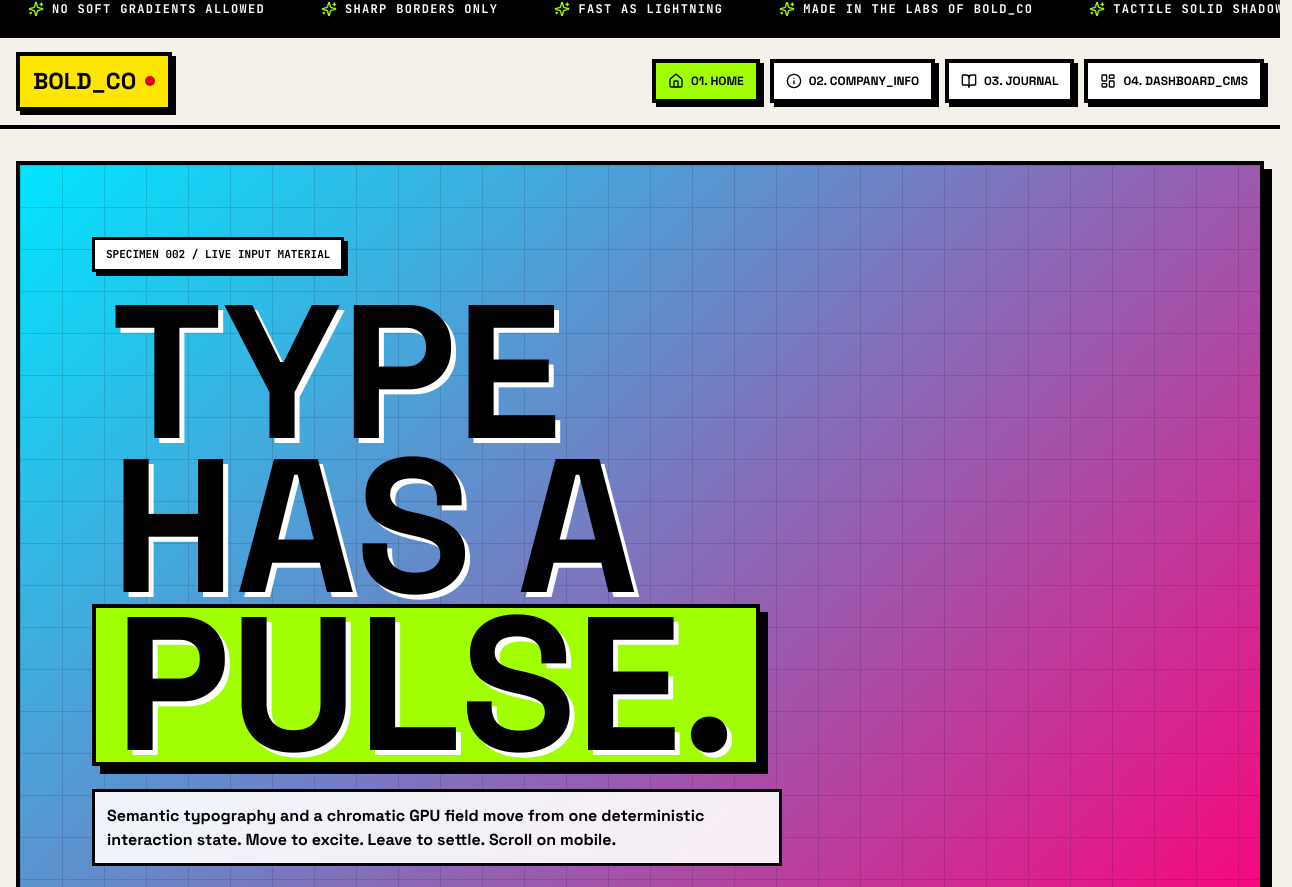
Test: BOLD_CO specimen › adds a review to the live feed
Click the button "02. COMPANY_INFO" at (852, 81), box [770,59,935,103]
(page scrolled)
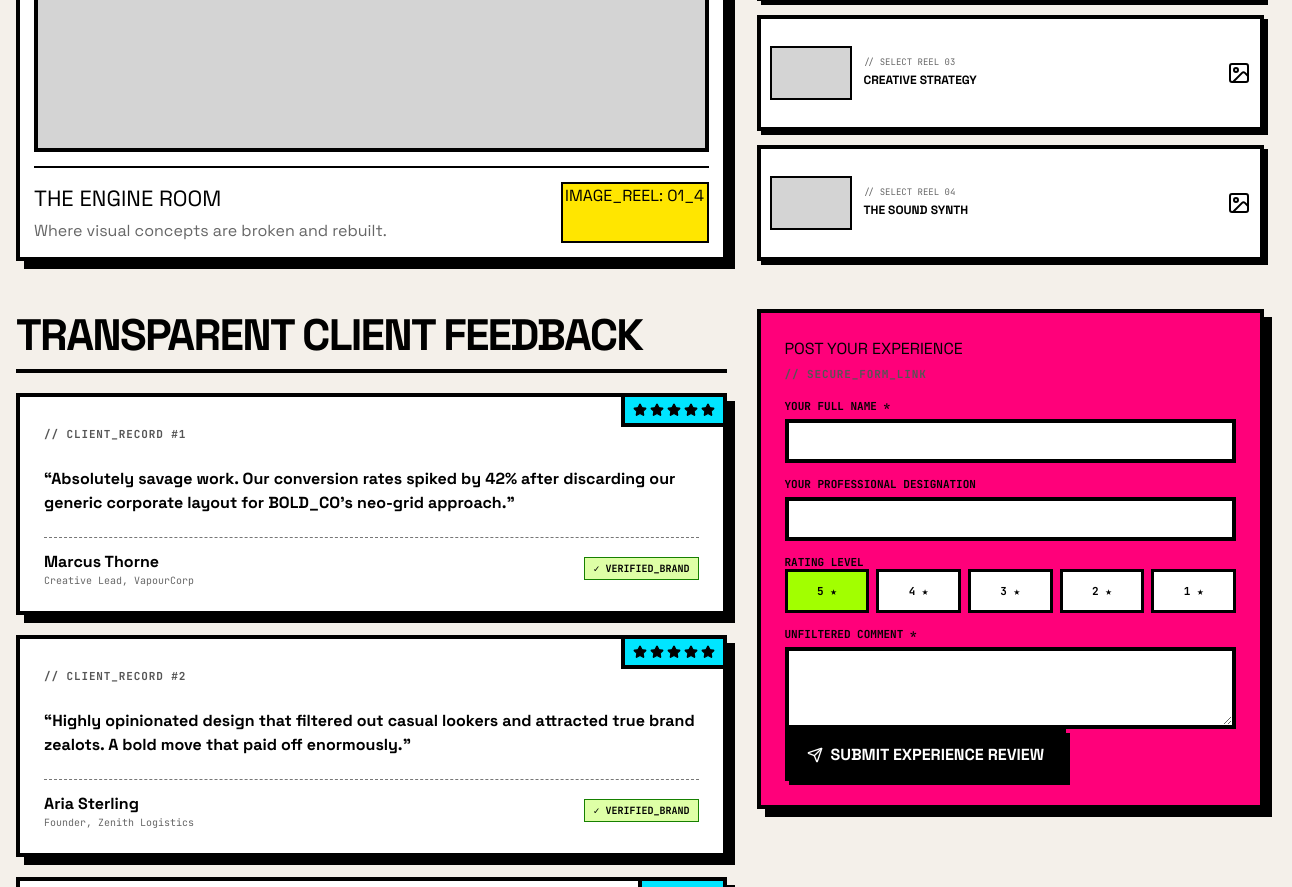
Type "Ada Grid" into the field labelled "Your Full Name *" at (1010, 441), box [784,419,1236,463]
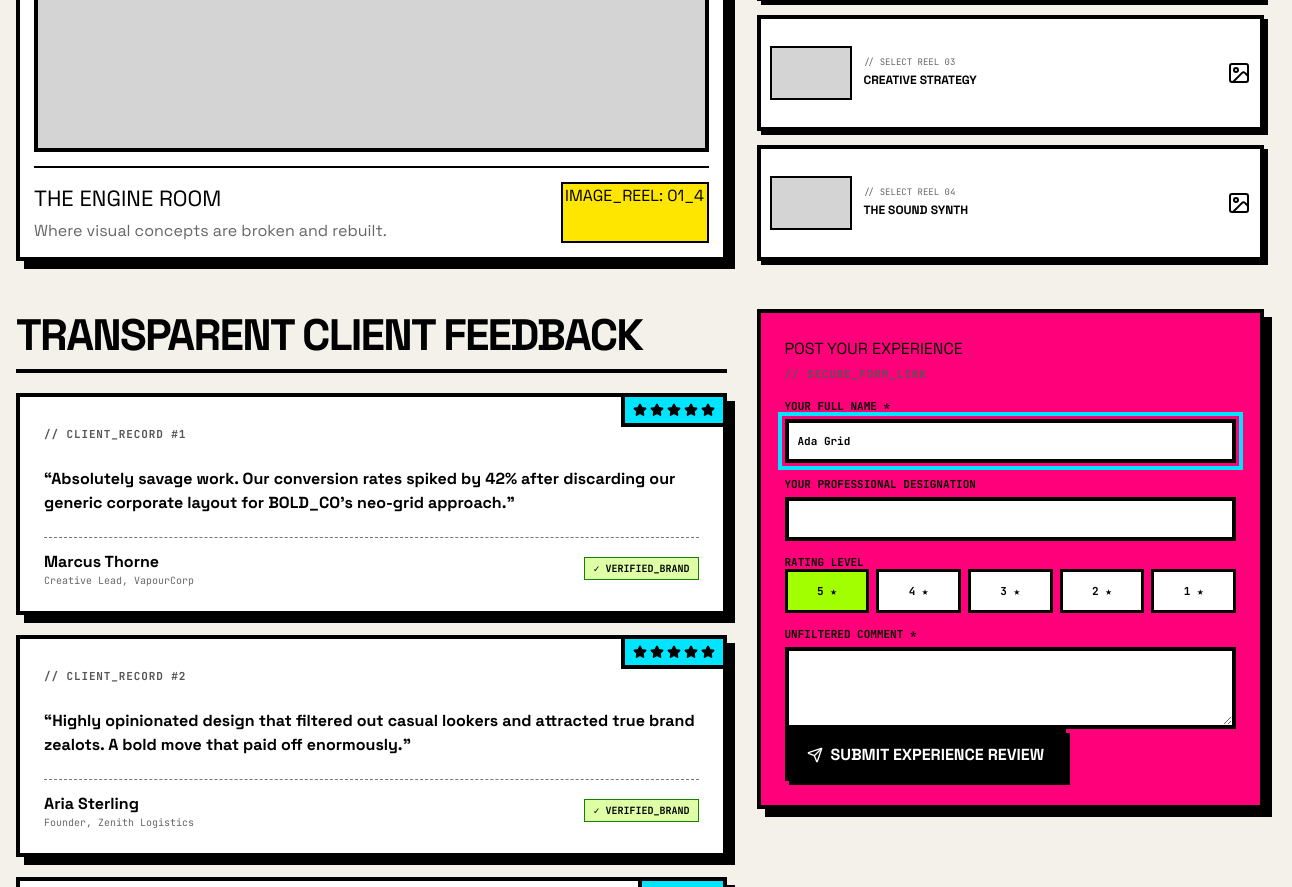
Type "Tactile, legible, and impossible to ignore." into the text box labelled "Unfiltered Comment *" at (1010, 688), box [784,647,1236,729]
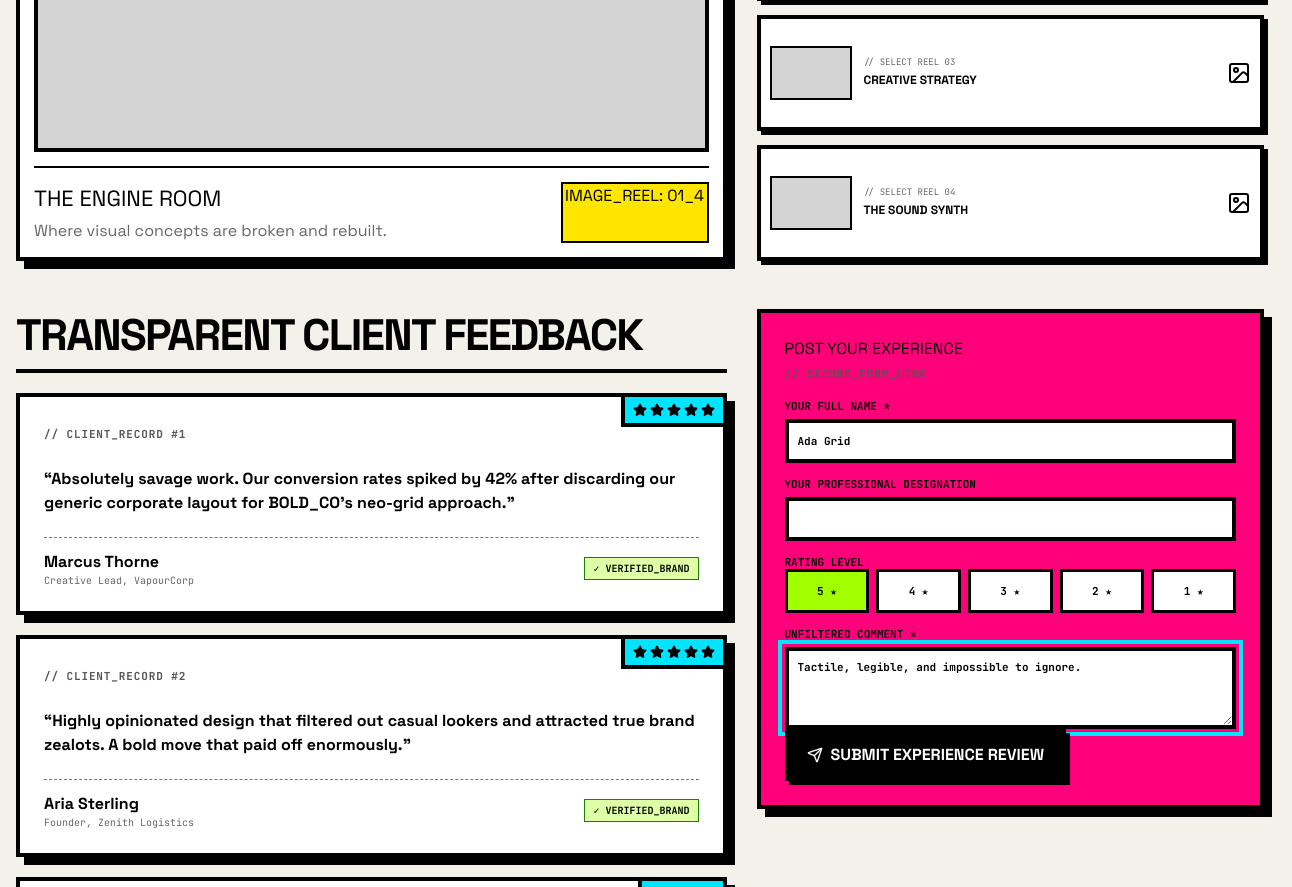
Click the button "SUBMIT EXPERIENCE REVIEW" at (925, 755), box [784,729,1066,781]
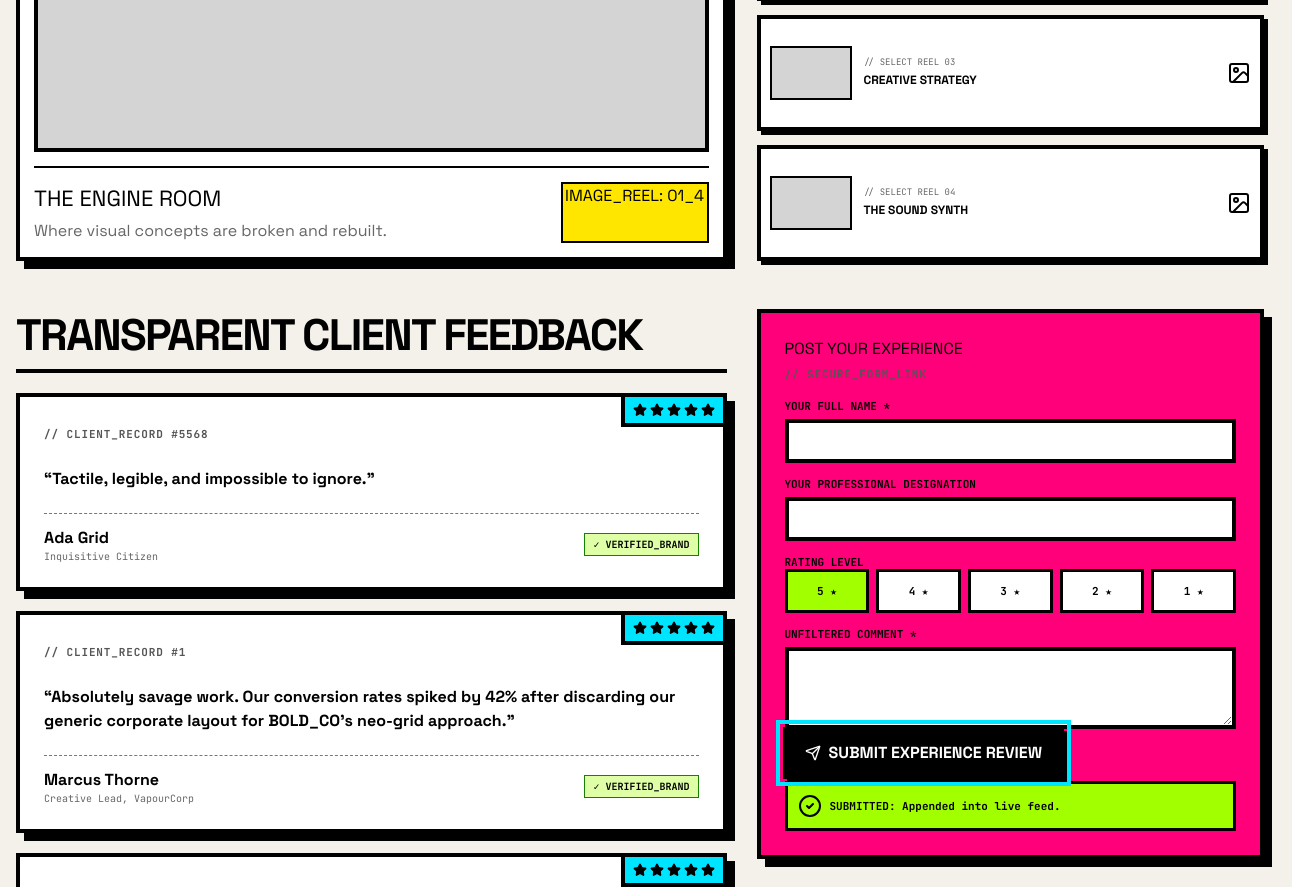
Now the text "“Tactile, legible, and impossible to ignore.”" is shown, box [44,468,375,489]
